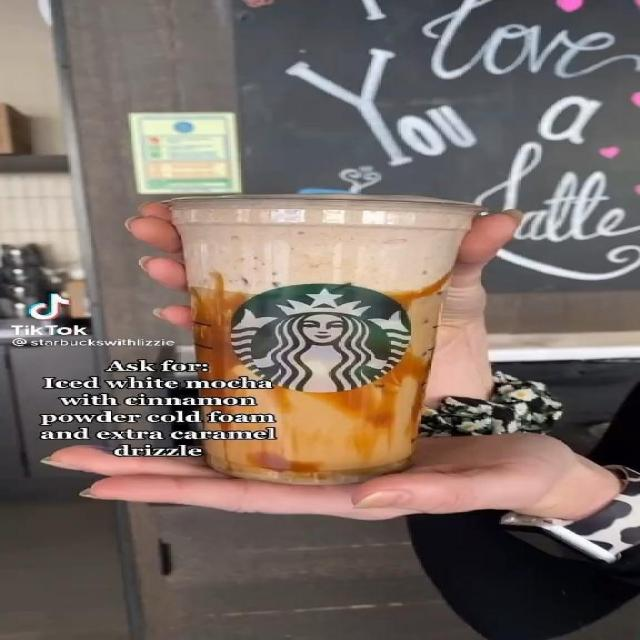cup-disposable: (164, 190, 486, 485)
